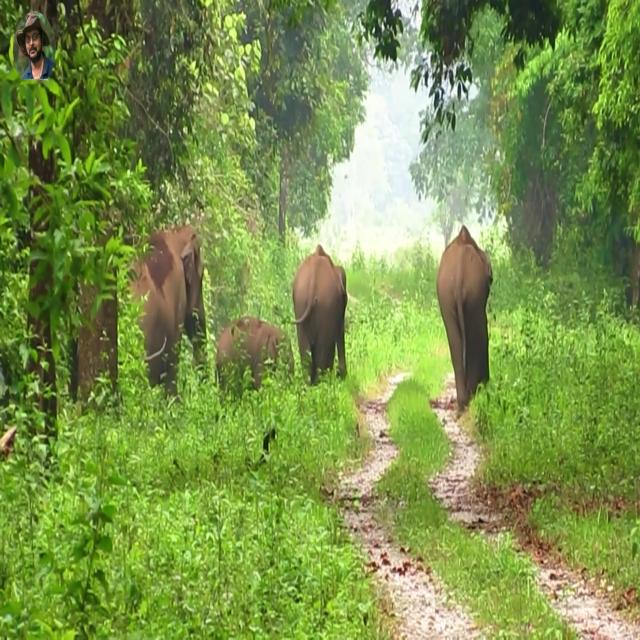Elephant: (125, 224, 207, 400), (436, 224, 493, 412), (291, 244, 348, 385), (215, 314, 294, 394)
person: (15, 10, 55, 81)
